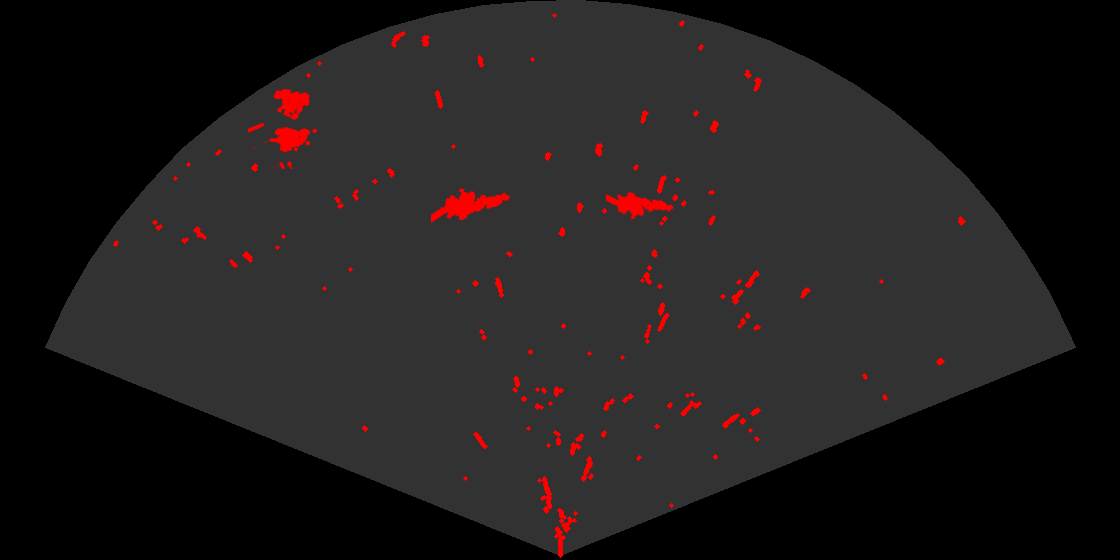cage: (248, 87, 319, 169)
frogman: (431, 187, 512, 224), (606, 190, 675, 221)
